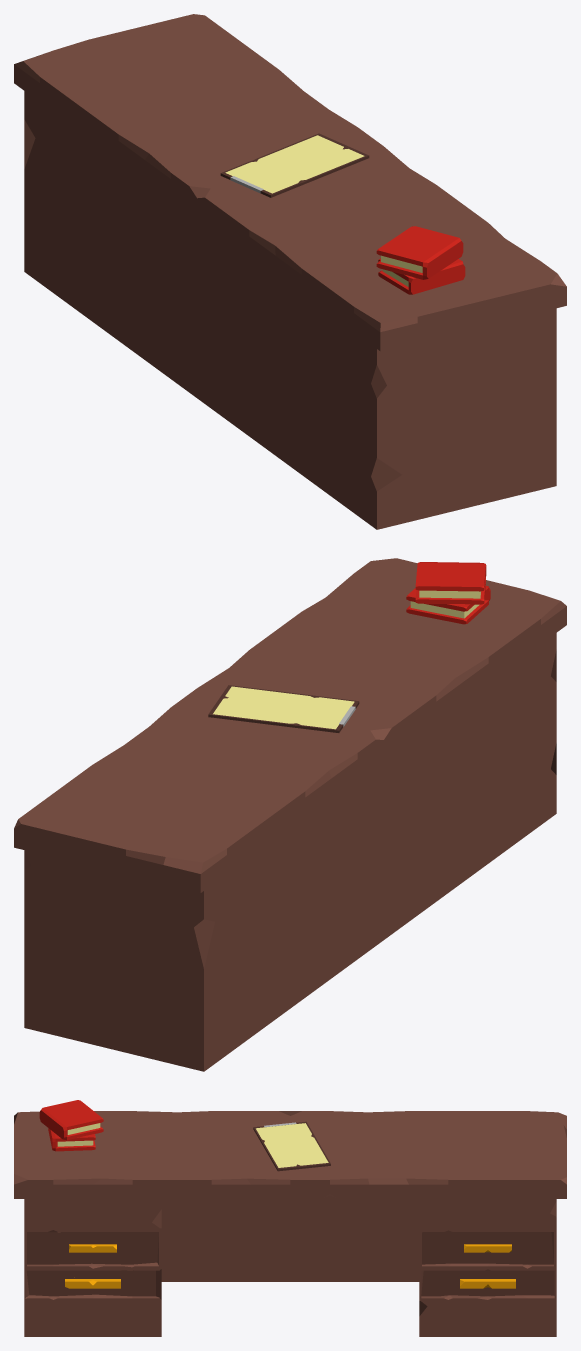
Rendered from Desk.fbx.
3 views of the same model, one above another, from view 1: azimuth 30°, elevation 25°; view 2: azimuth 150°, elevation 25°; view 3: azimuth 270°, elevation 25° (orthographic). The views are drawn at different scales.
Visible parts, largest first — view 1: Cube.002, Cube.004, Cube.003, Cube; view 2: Cube.002, Cube.003, Cube.004, Cube, Cube.005; view 3: Cube.002, Cube.001, Cube.004, Cube.003, Cube, Cube.005.
Part boxes in pixels (x1,y1,x2,y2): Cube.002: (14, 14, 566, 529); Cube.004: (376, 226, 465, 294); Cube.003: (225, 135, 364, 193); Cube: (220, 133, 369, 197); Cube.002: (14, 558, 566, 1071); Cube.003: (213, 686, 354, 729); Cube.004: (406, 562, 490, 624); Cube: (208, 685, 359, 732); Cube.005: (410, 590, 480, 618); Cube.002: (14, 1111, 566, 1336); Cube.001: (26, 1230, 554, 1296); Cube.004: (39, 1100, 103, 1151); Cube.003: (256, 1123, 328, 1167); Cube: (253, 1121, 330, 1171); Cube.005: (57, 1123, 100, 1146).
Bounding box in the file's own units: 610 × 762 × 2071.
